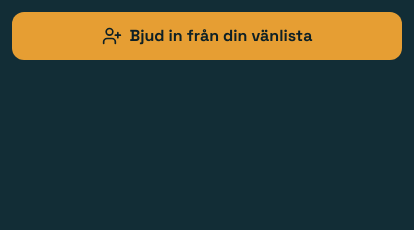
Test case: already seated friends are filtered by server session ID, not seat-row ID
Click the button "Bjud in från din vänlista" at (207, 36), box [12,12,402,60]
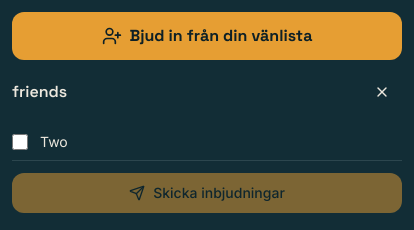
Result: the checkbox labelled "Two" is enabled at [12,134,28,150]
